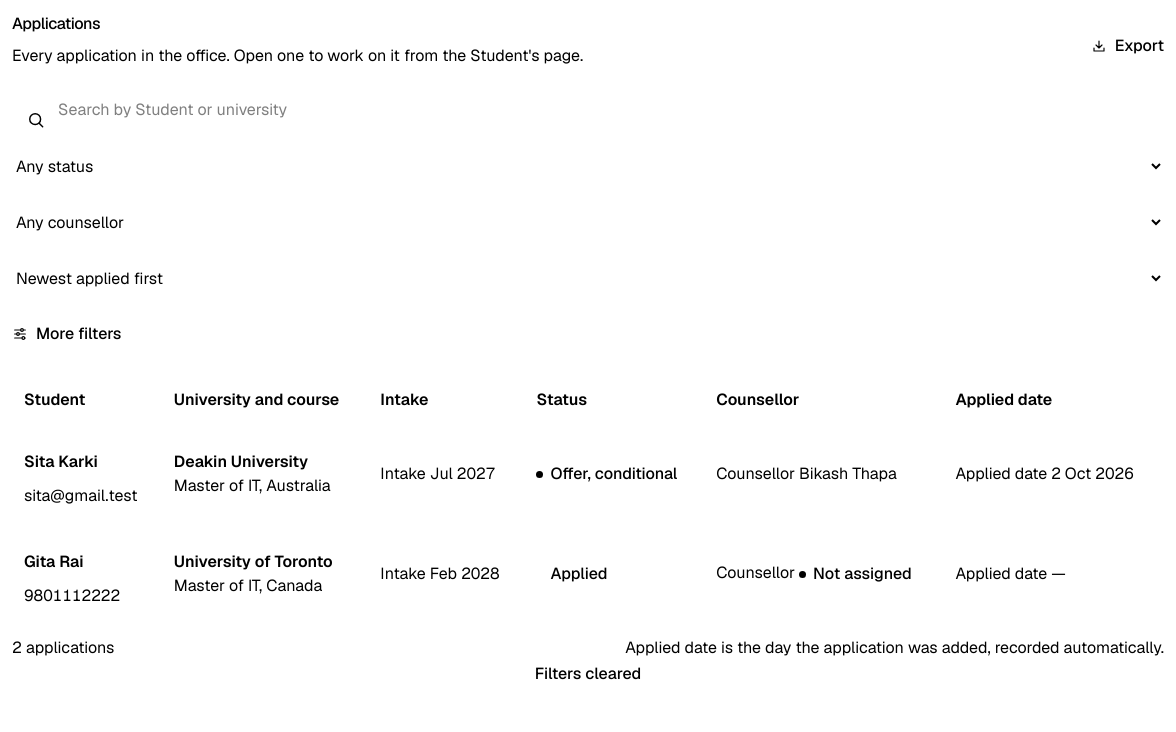
Test case: ApplicationsPage search as a set filter (UI revamp ticket 25) › counts as a set filter: Clear filters empties it
Expected: the button "Clear filters" is not shown
Type "Deakin" into the search field named "Search applications" at (588, 110), box 12,88 -> 1164,132
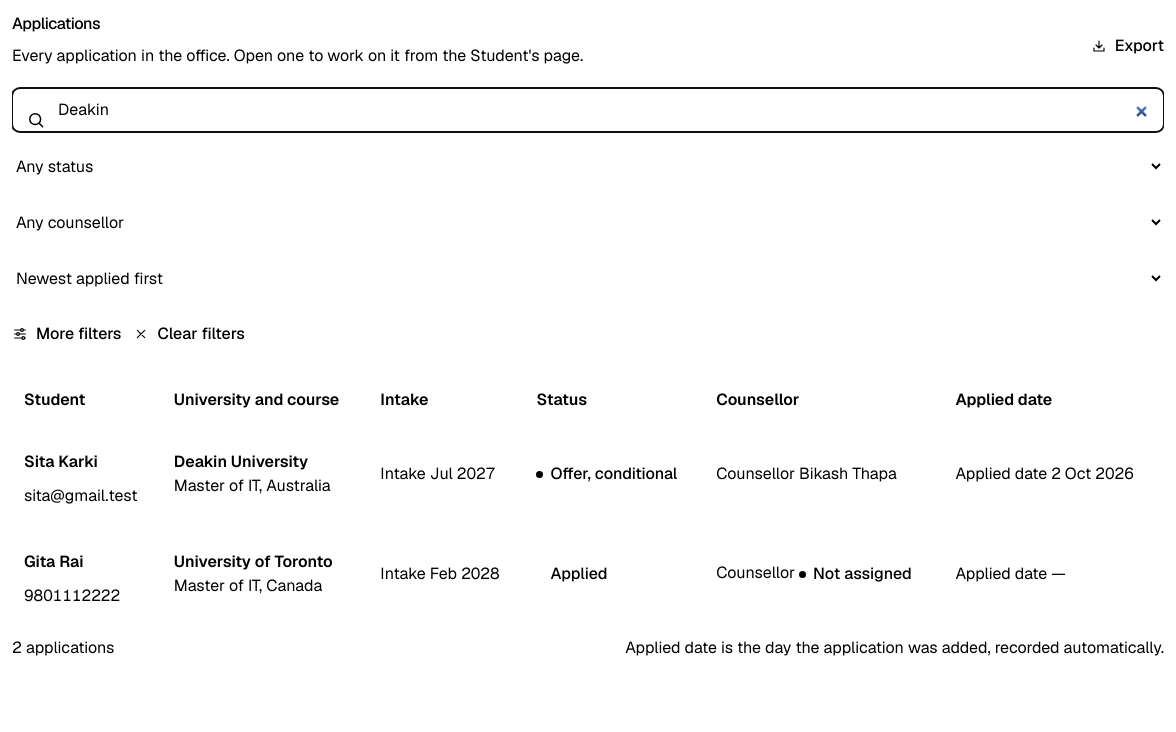
Click the button "Clear filters" at (189, 334), box 134,312 -> 245,356
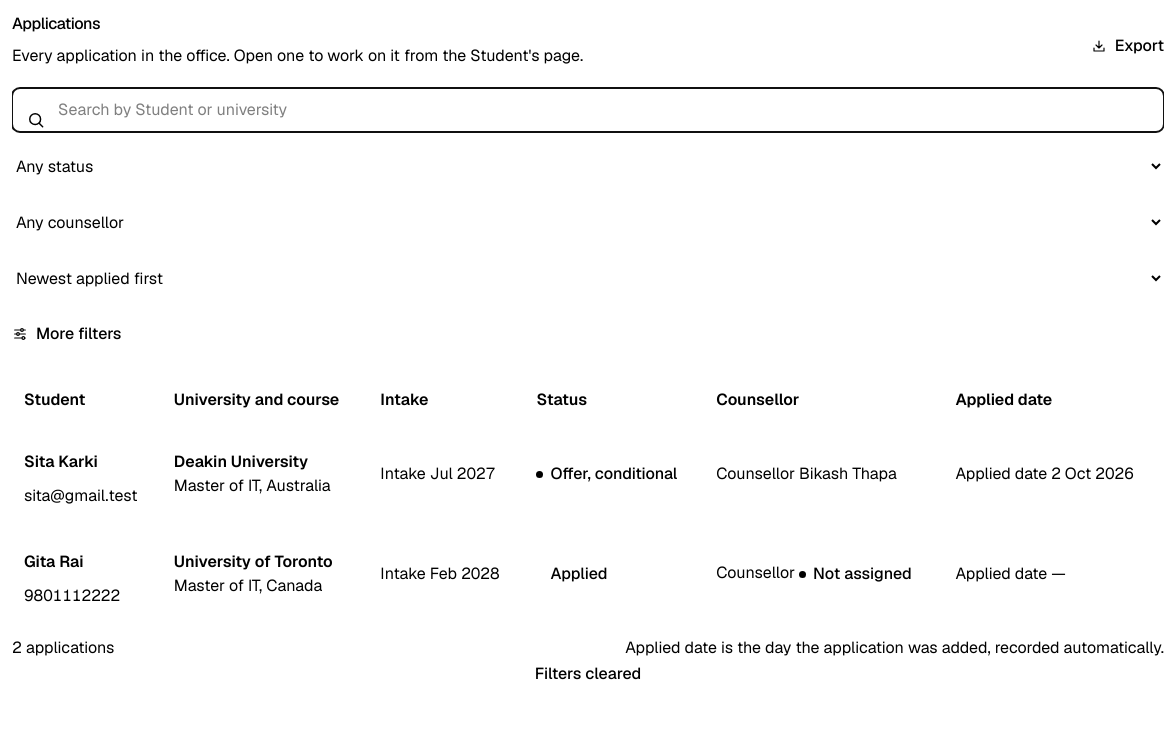
Expected: the search field named "Search applications" is empty, 12,88 -> 1164,132
